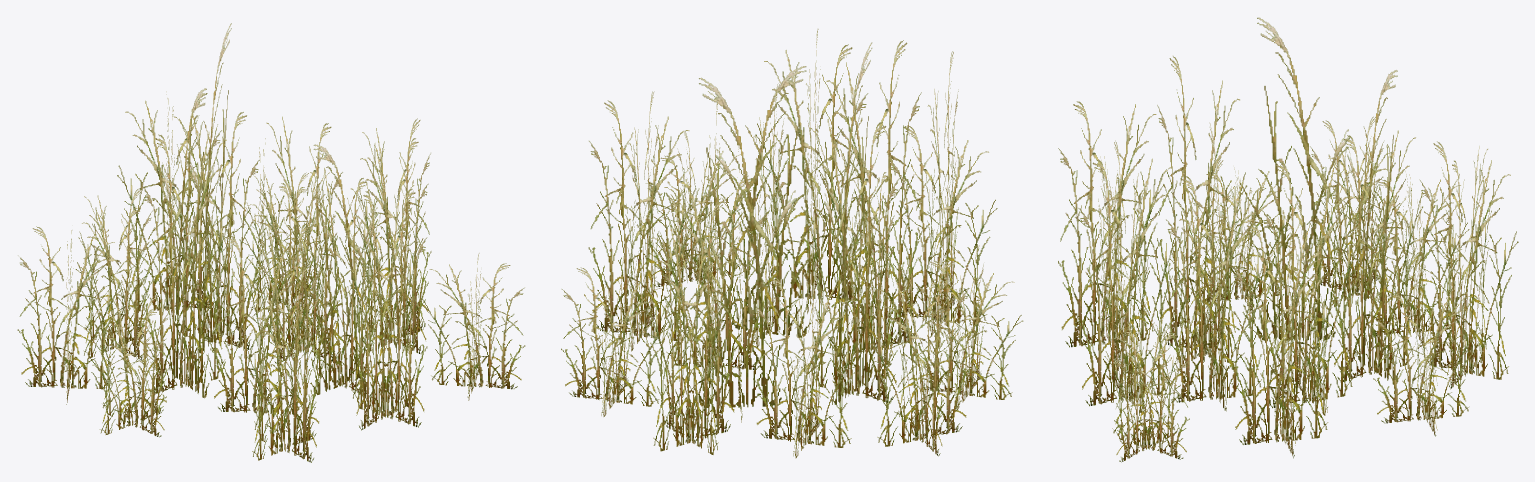
Rendered from grs_weed06.glb.
The picture shows the model from 3 angles, left to right: view 1: azimuth 30°, elevation 25°; view 2: azimuth 150°, elevation 25°; view 3: azimuth 270°, elevation 25°; orthographic projection. The views are drawn at different scales.
Visible parts, largest first — view 1: grs_weed06; view 2: grs_weed06; view 3: grs_weed06.
Boxes of the visible parts, x1,y1,x2,y2 form: grs_weed06: (17,23,525,462); grs_weed06: (561,29,1023,458); grs_weed06: (1058,17,1518,462).
Size of the model in its own units: 4.54 by 3.58 by 4.63.
Materials: 1 (1 with a texture image).
